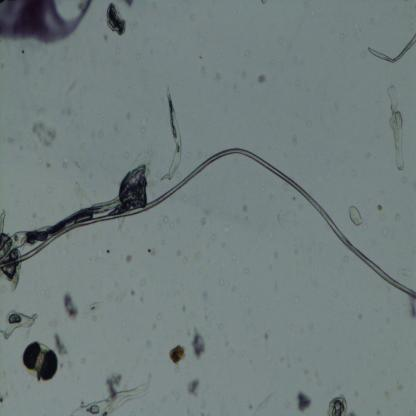Background material: (249, 380, 276, 416), (74, 298, 103, 324), (67, 144, 90, 176), (33, 119, 58, 147), (106, 1, 126, 36), (54, 96, 77, 118), (64, 290, 80, 321), (191, 330, 206, 359), (272, 202, 289, 226), (54, 332, 70, 357), (36, 150, 54, 171), (169, 342, 186, 364), (348, 204, 364, 227), (299, 391, 313, 412), (158, 213, 176, 229), (63, 78, 79, 95), (198, 63, 212, 82), (188, 377, 200, 397), (398, 266, 413, 281), (407, 296, 416, 319), (122, 248, 133, 266), (60, 355, 73, 370), (212, 68, 224, 83), (109, 118, 119, 136), (376, 224, 388, 238), (241, 43, 251, 56), (142, 335, 152, 348), (94, 127, 104, 140), (257, 72, 266, 86), (336, 29, 347, 40), (300, 364, 309, 377), (137, 122, 146, 135), (200, 286, 207, 302), (399, 172, 410, 182), (178, 302, 189, 312), (146, 247, 156, 257), (240, 68, 247, 82), (192, 250, 200, 262), (396, 381, 404, 393), (264, 329, 271, 342), (367, 14, 377, 23), (138, 278, 147, 288), (230, 81, 240, 90), (292, 134, 300, 145), (9, 132, 16, 144), (128, 287, 137, 296), (229, 252, 237, 262), (200, 214, 206, 227), (62, 158, 68, 171), (174, 249, 185, 256), (240, 204, 248, 213), (280, 182, 289, 190), (374, 407, 382, 416), (155, 310, 162, 320), (123, 149, 130, 159), (125, 0, 136, 6), (243, 266, 251, 274), (376, 205, 384, 213), (80, 356, 86, 366), (273, 249, 280, 257), (228, 347, 235, 355), (88, 131, 95, 139), (346, 410, 355, 416), (347, 106, 356, 112), (40, 65, 46, 74), (218, 323, 223, 333), (198, 50, 203, 60), (276, 37, 283, 44), (150, 322, 157, 329), (134, 52, 140, 60), (385, 392, 391, 400), (105, 248, 110, 256), (126, 110, 130, 120), (45, 289, 50, 297), (144, 84, 148, 92), (0, 394, 3, 404), (20, 48, 25, 54), (261, 0, 266, 6), (189, 313, 194, 318), (357, 314, 363, 318)
Cellulose filter fibre: (0, 163, 149, 259), (69, 372, 157, 416), (162, 86, 183, 182), (385, 80, 406, 172), (366, 31, 414, 66), (1, 302, 36, 338), (326, 394, 348, 416)
Diatom: (22, 337, 58, 381)
Microfibre: (0, 145, 416, 301)
Pen: (0, 0, 96, 47)
